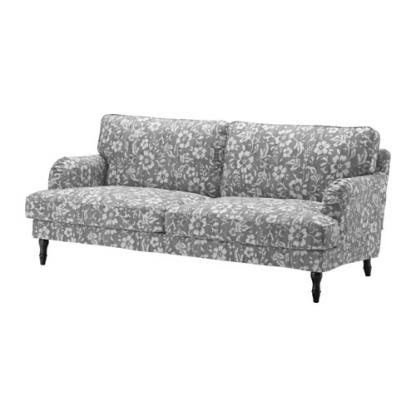Sofa: (21, 109, 393, 305)
